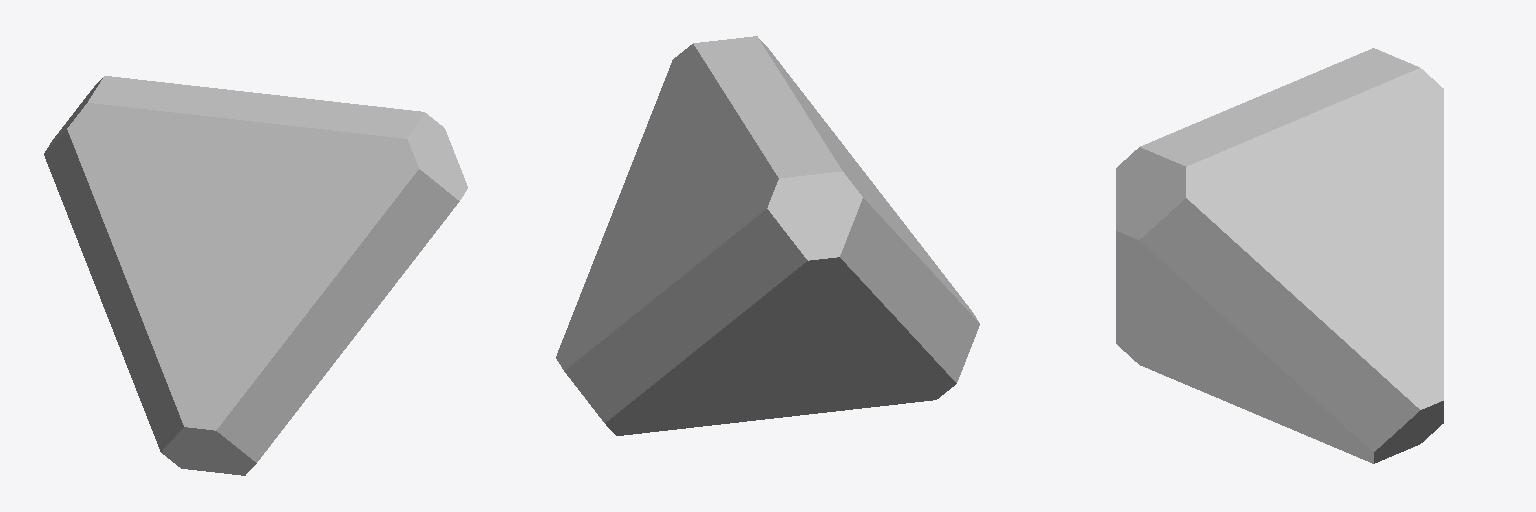
File: tet3.obj
The picture shows the model from 3 angles: view 1: azimuth 30°, elevation 25°; view 2: azimuth 150°, elevation 25°; view 3: azimuth 270°, elevation 25°; orthographic projection.
Parts seen in each view (by area): view 1: tetra; view 2: tetra; view 3: tetra.
Boxes of the visible parts, x1=… form: tetra: x1=44, y1=76, x2=467, y2=475; tetra: x1=556, y1=36, x2=979, y2=435; tetra: x1=1116, y1=48, x2=1443, y2=463.
Bounding box in the file's own units: 1.4 × 1.4 × 1.4.